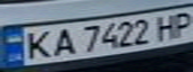2: (130, 16, 157, 46), (115, 17, 139, 50)
4: (100, 20, 121, 52)
7: (75, 21, 103, 54)
A: (48, 25, 78, 57)
H: (151, 11, 184, 42)
K: (18, 27, 57, 61)
P: (169, 8, 193, 38)
